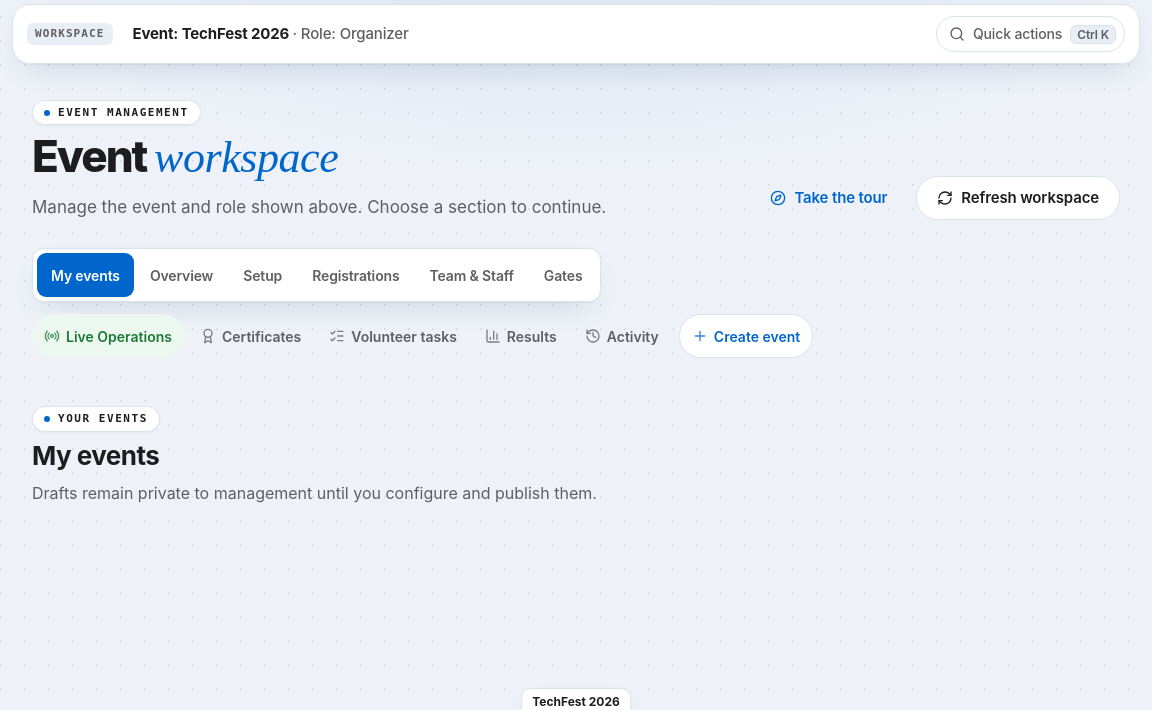
it: P1-B workspace workflows › shows event-local date/time controls, grouped fields, and a human time zone selector
Click the button "Setup": (263, 275) [229, 253, 296, 297]
(page scrolled)
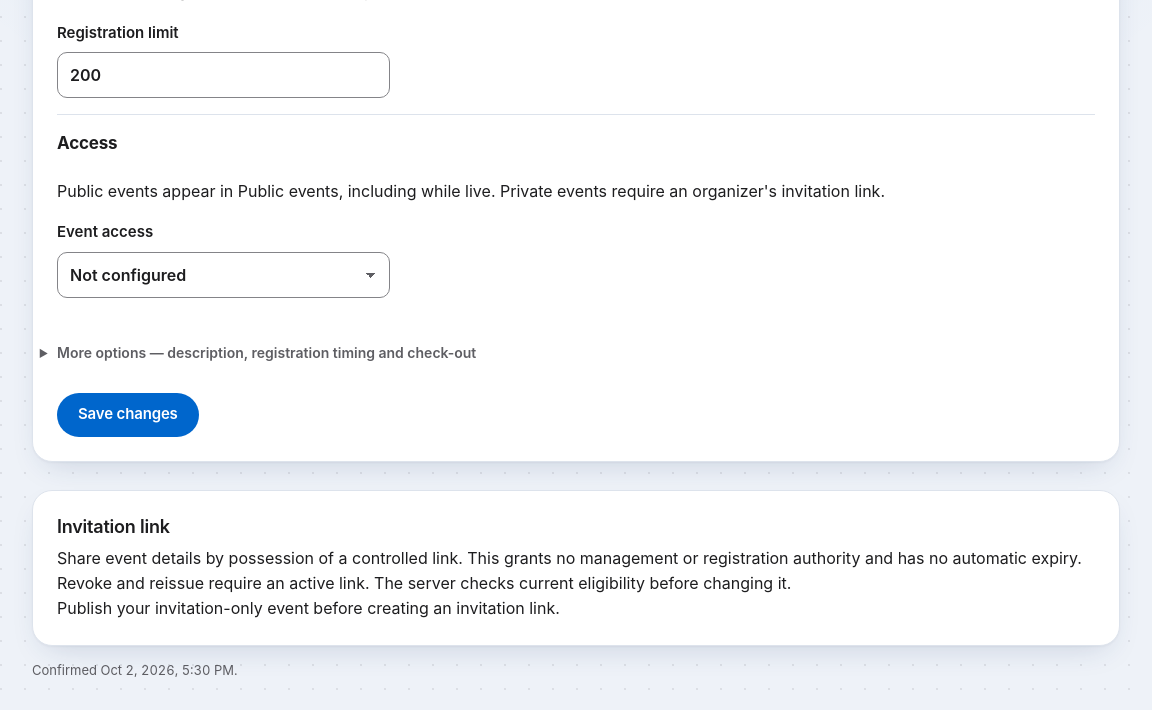
Expected: the field labelled "Enable check-out" is not shown
Now the element "Access" is shown, box [57, 114, 1095, 314]
Click the heading "More options —": (267, 352) [57, 344, 476, 361]
(page scrolled)
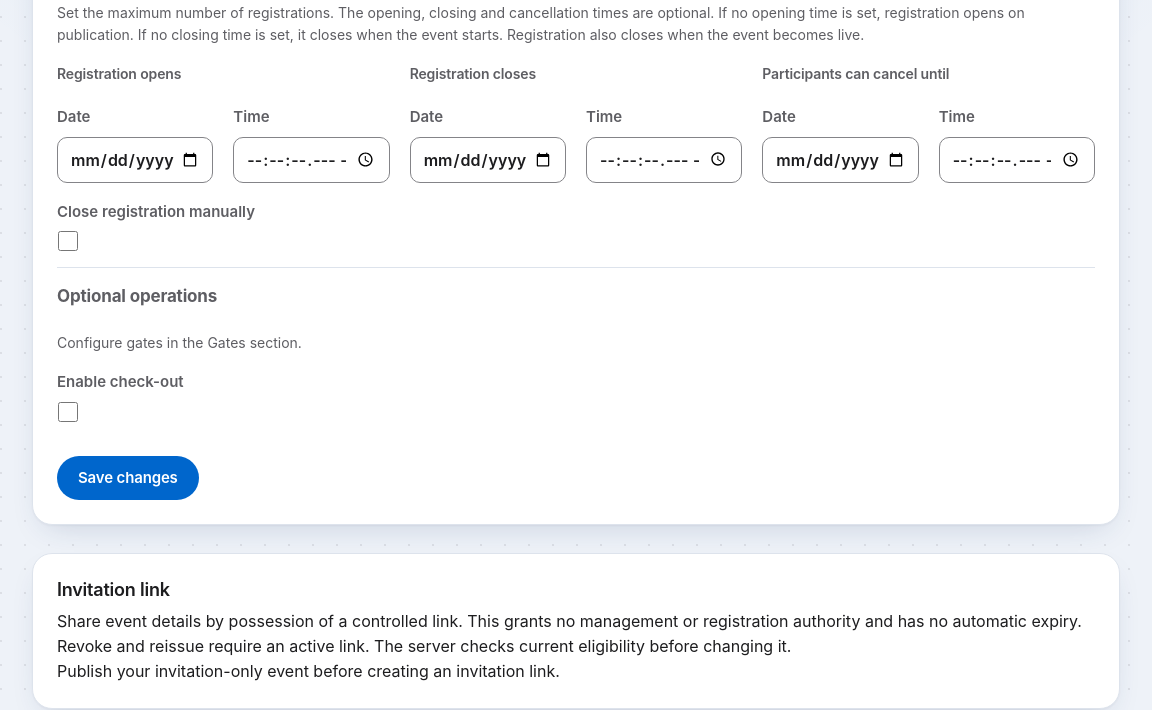
Now the element "Optional operations" is shown, box [57, 267, 1095, 438]
